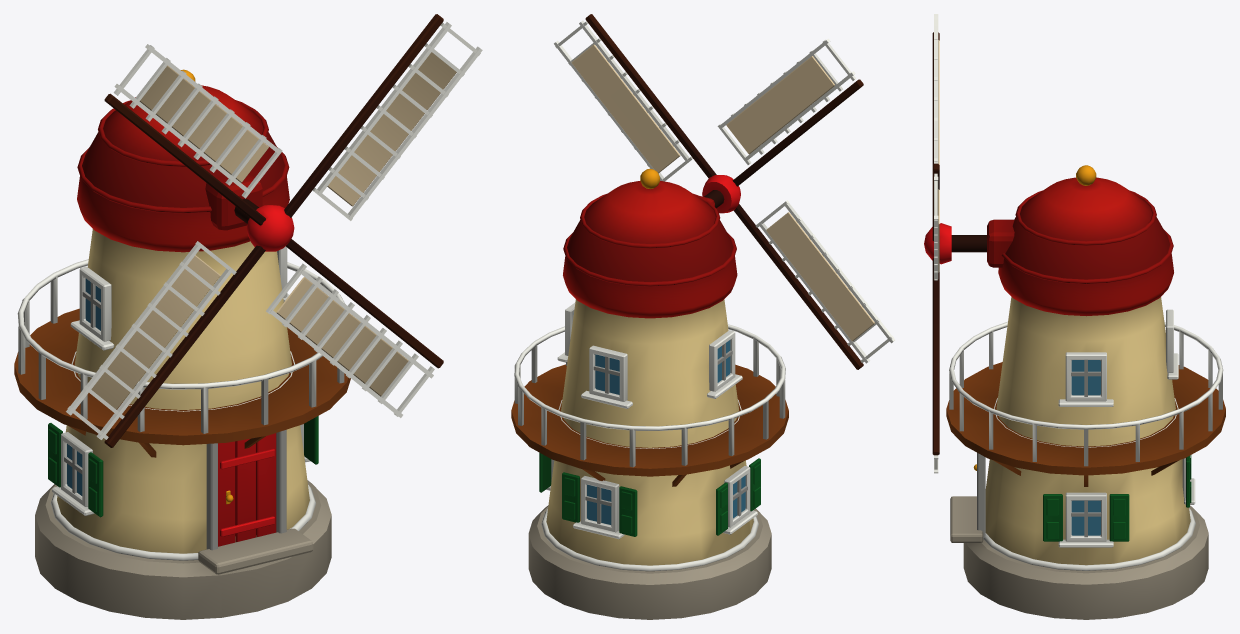
Rendered from Windmill.fbx.
3 views of the same model, side by side, from view 1: azimuth 30°, elevation 25°; view 2: azimuth 150°, elevation 25°; view 3: azimuth 270°, elevation 25° (orthographic). The views are drawn at different scales.
Parts seen in each view (by area): view 1: Windmill, Sails; view 2: Windmill, Sails; view 3: Windmill, Sails.
Part boxes in pixels (x1,y1,x2,y2): Windmill: (14, 69, 350, 619); Sails: (66, 14, 482, 447); Windmill: (511, 168, 788, 619); Sails: (554, 14, 895, 369); Windmill: (946, 165, 1225, 619); Sails: (924, 14, 986, 473).
Size of the model in its own units: 4.58 by 6.44 by 3.5.
